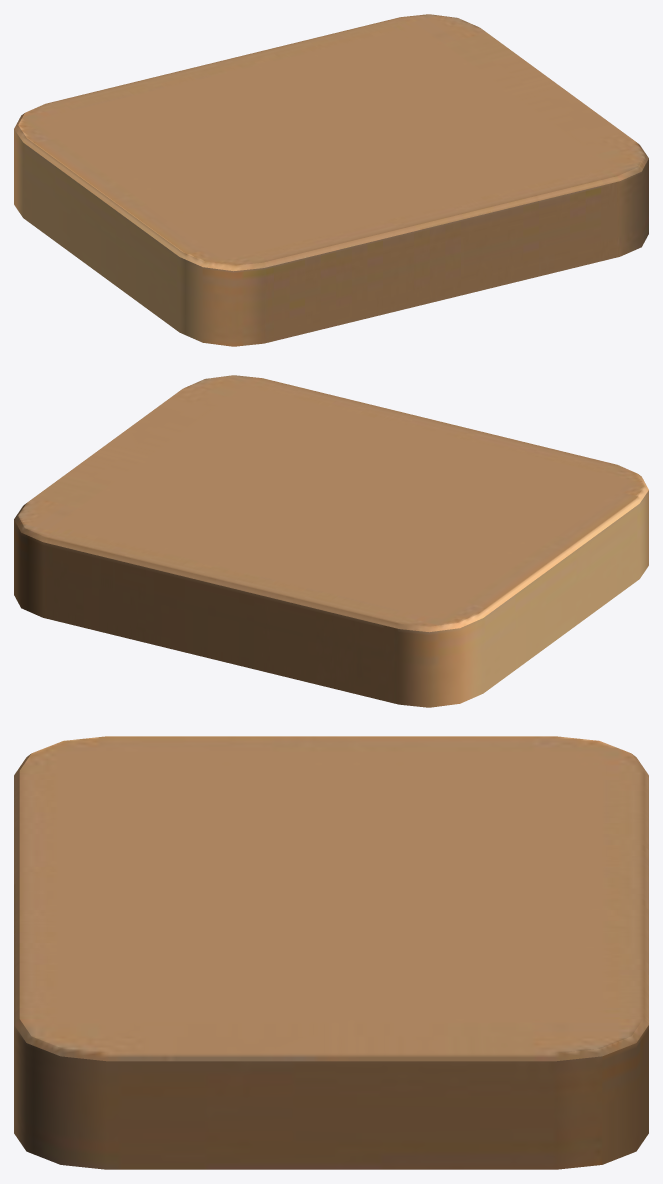
3 views of the same model, one above another, from view 1: azimuth 30°, elevation 25°; view 2: azimuth 150°, elevation 25°; view 3: azimuth 270°, elevation 25° (orthographic). The views are drawn at different scales.
Parts seen in each view (by area): view 1: ZHUOZI; view 2: ZHUOZI; view 3: ZHUOZI.
Part boxes in pixels (bbox=[...]): ZHUOZI: bbox=[14, 14, 648, 346]; ZHUOZI: bbox=[14, 375, 648, 707]; ZHUOZI: bbox=[14, 736, 648, 1169].
Size of the model in its own units: 1.54 by 0.2533 by 1.28.
1 material, 1 textured.
